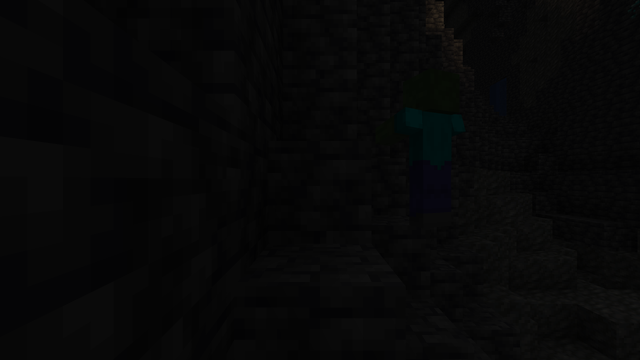zombies: (401, 73, 464, 229)
